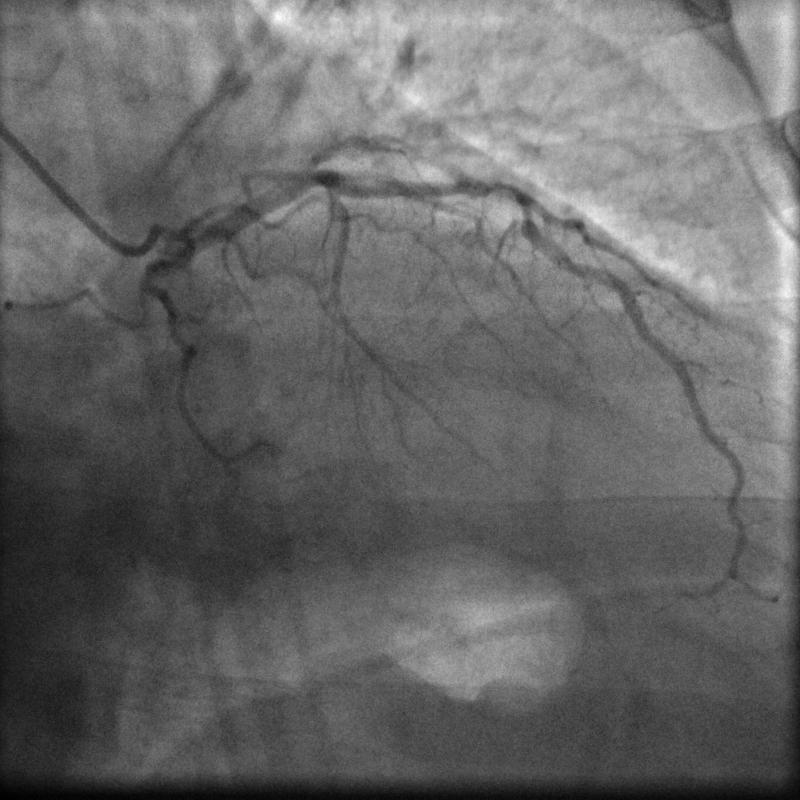Stenosis: (460, 176, 539, 218)
